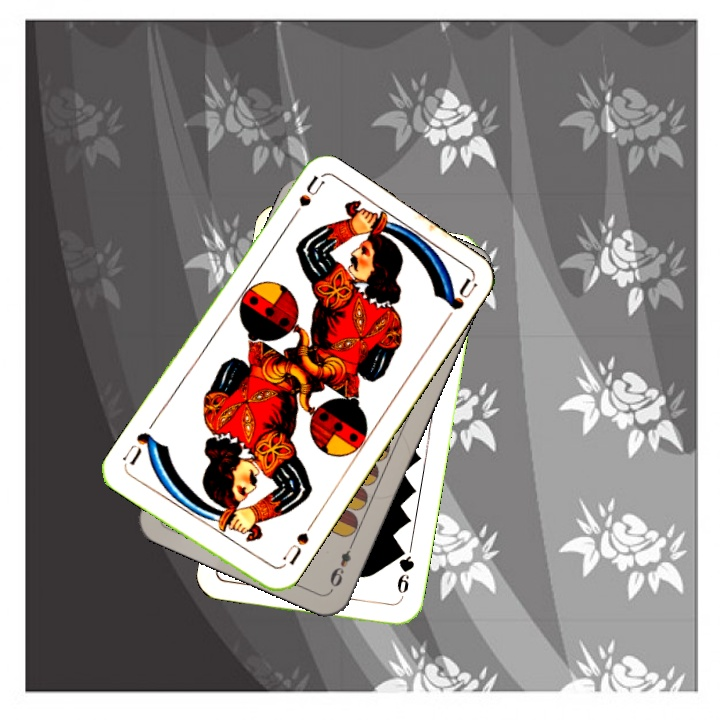E9: (325, 536, 358, 592)
G9: (393, 543, 417, 604)
SU: (283, 173, 326, 227), (276, 519, 316, 571)
